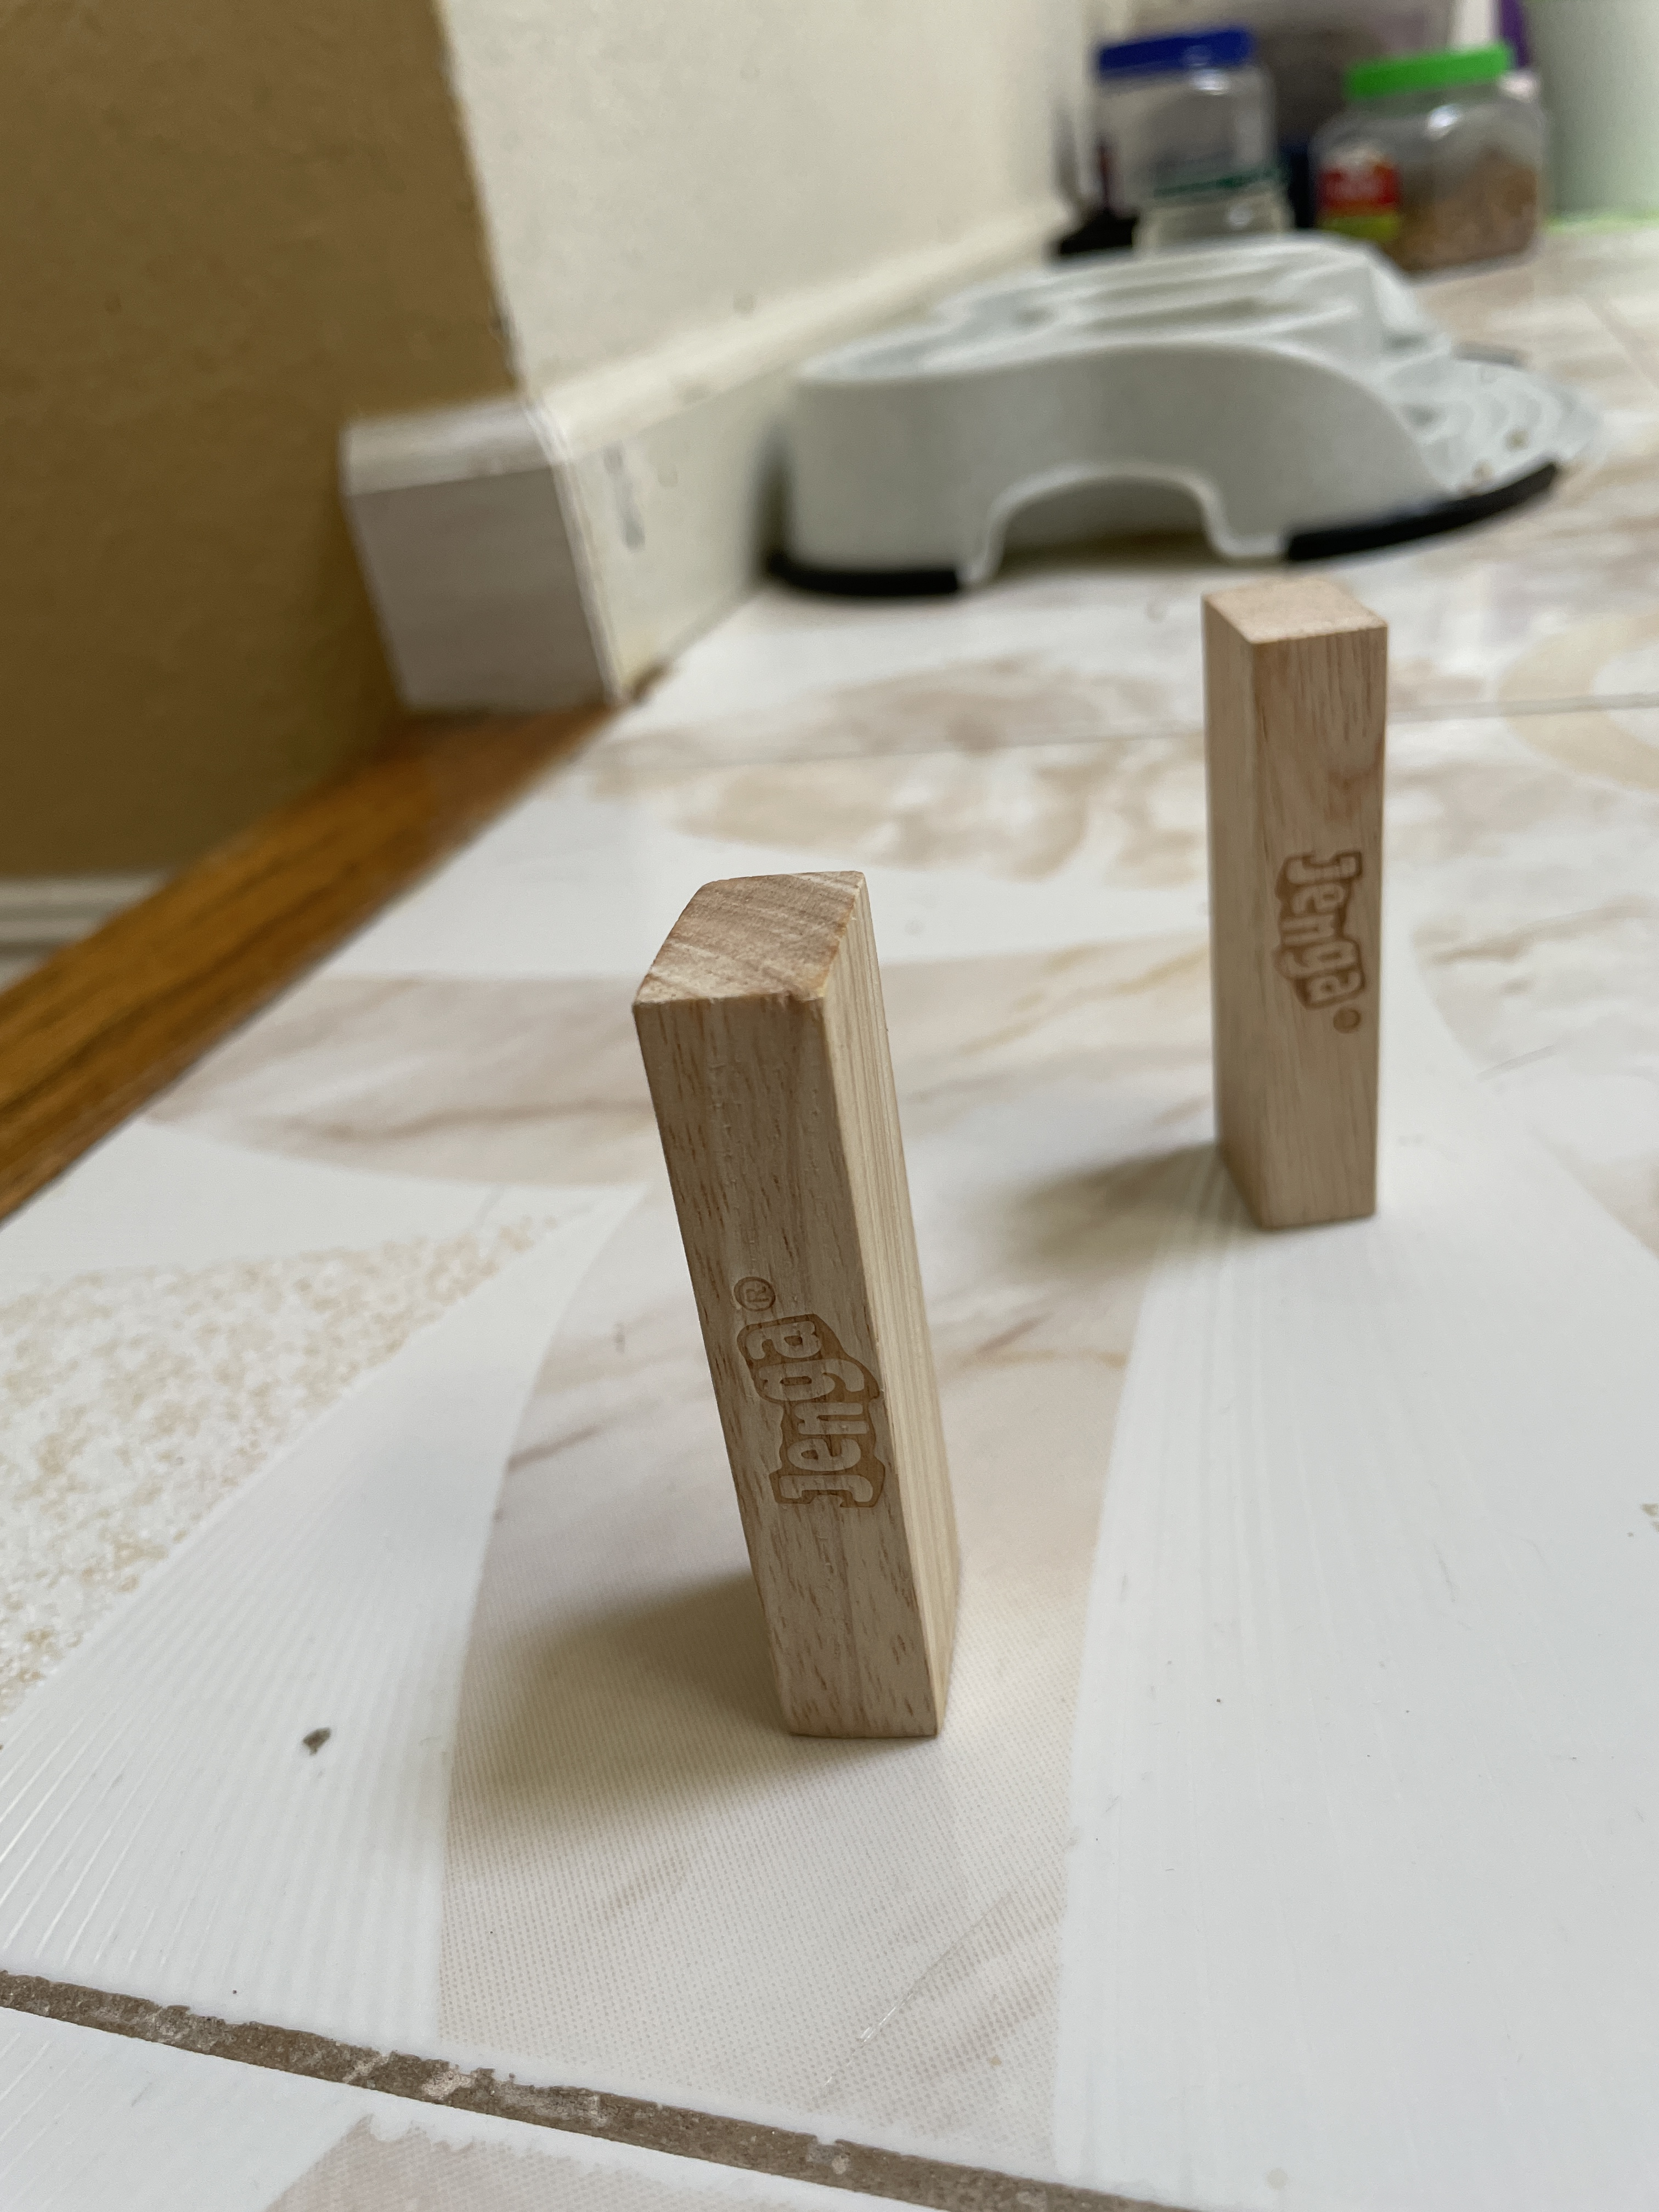jenga: (624, 871, 1002, 1743), (1169, 585, 1419, 1221)
